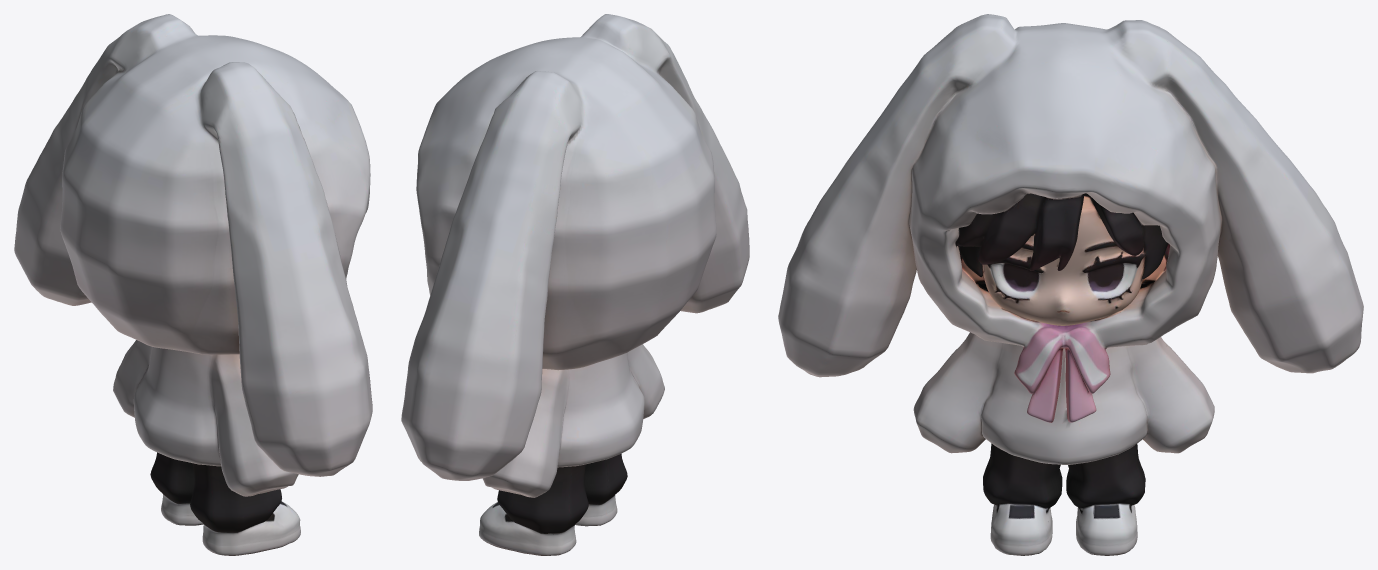
File: hood-rabbit.obj
The picture shows the model from 3 angles, left to right: view 1: azimuth 30°, elevation 25°; view 2: azimuth 150°, elevation 25°; view 3: azimuth 270°, elevation 25°; orthographic projection. The views are drawn at different scales.
Parts seen in each view (by area): view 1: tripo_mesh_b90dbb1c; view 2: tripo_mesh_b90dbb1c; view 3: tripo_mesh_b90dbb1c.
Boxes of the visible parts, x1,y1,x2,y2 form: tripo_mesh_b90dbb1c: (14, 14, 372, 555); tripo_mesh_b90dbb1c: (401, 14, 749, 555); tripo_mesh_b90dbb1c: (778, 14, 1363, 555).
Bounding box in the file's own units: 51.84 × 94.38 × 99.88.
